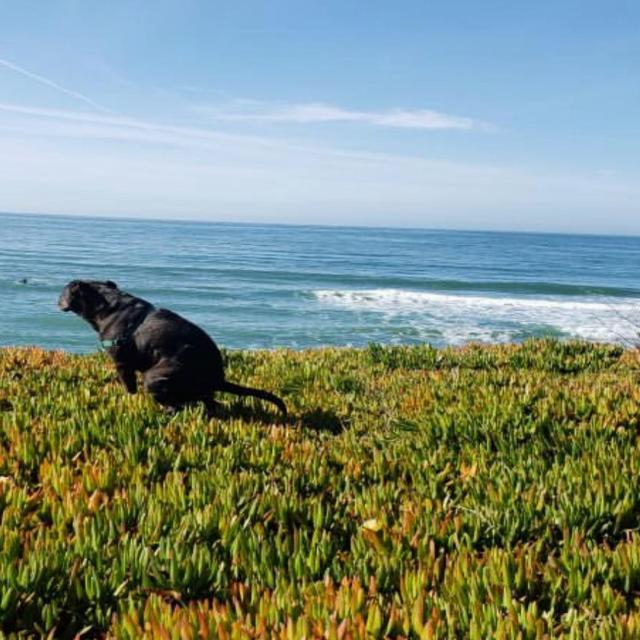squatting: (52, 269, 300, 424)
